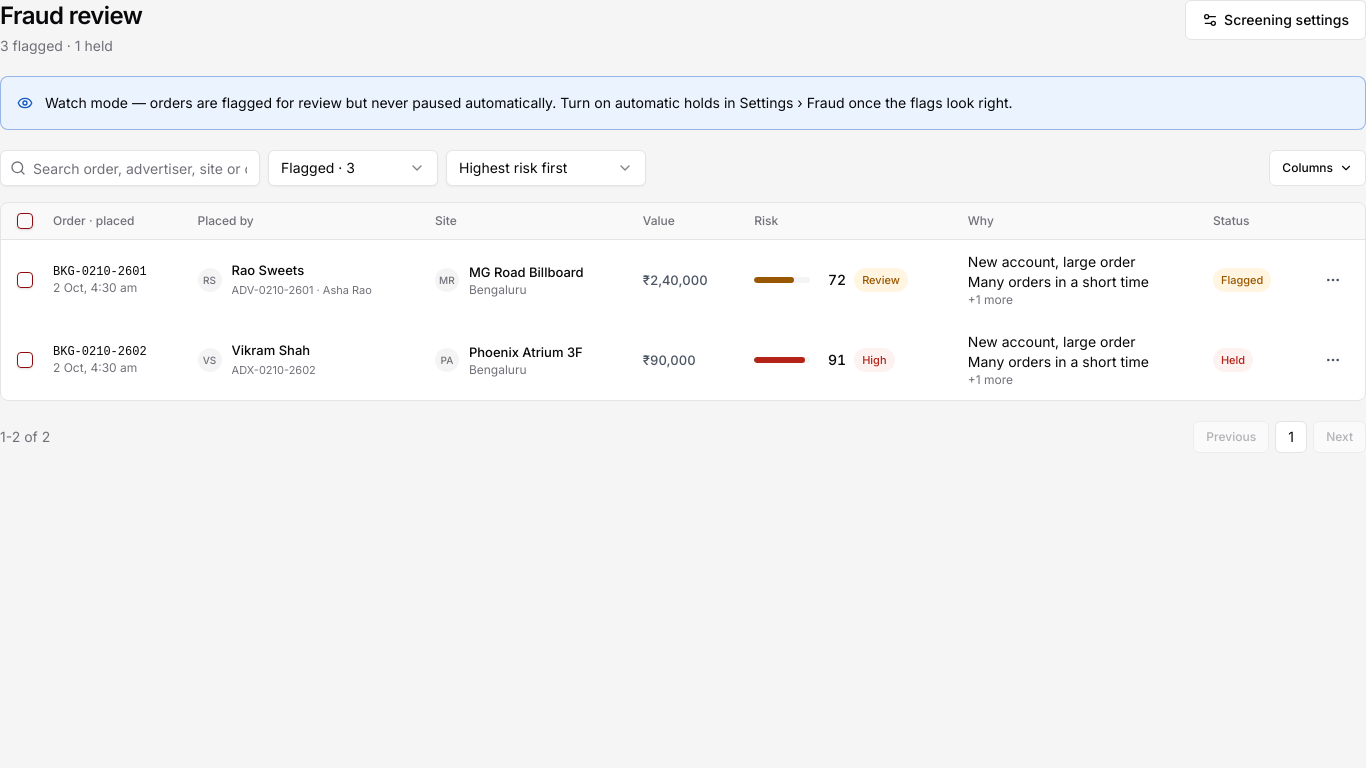
Test: the bulk bar › cancels several as fraud with the summed money shown first, and keeps the failures ticked
The width and height of the screenshot is (1366, 768).
Click the checkbox named "Select all rows". click: (25, 221)
box: [17,213,33,229]
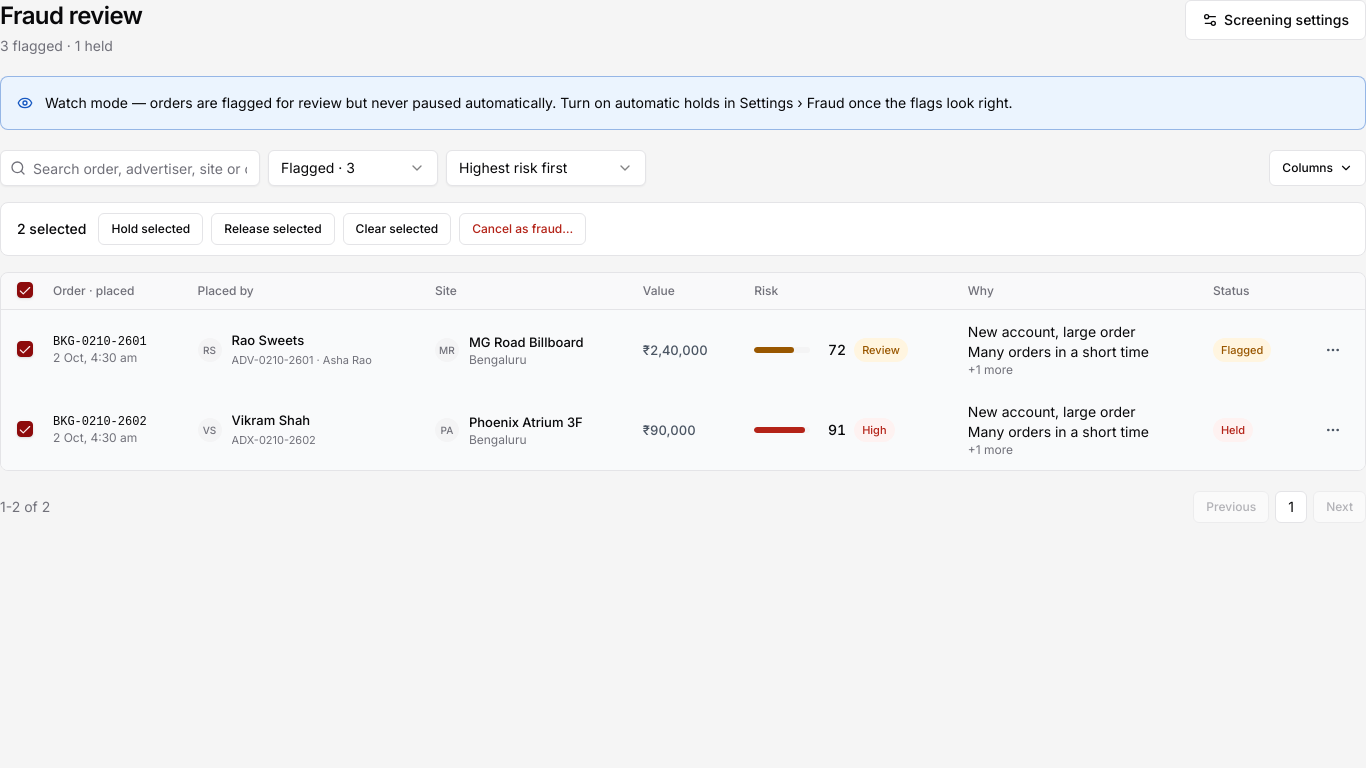
Click the button with test id "bulk-confirm-fraud". click: (523, 229)
box: [459,213,586,245]
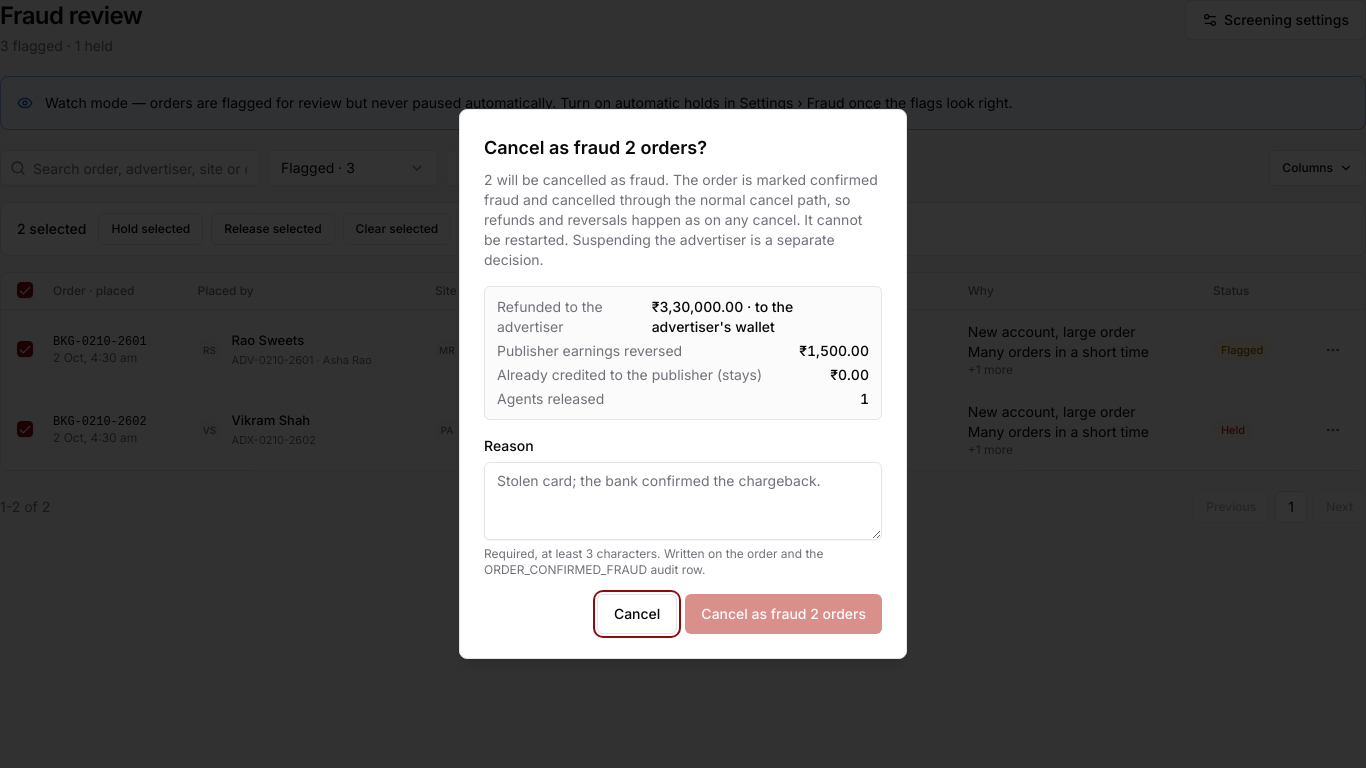
Check: the element with test id "cancel-impact" shows "₹3,30,000.00", box [652,298,793,335]
Check: the element with test id "cancel-impact" shows "₹1,500.00", box [799,342,869,359]
Check: the button "Cancel as fraud 2 orders" is disabled, box [685,594,882,634]
Type "Ring of stolen cards" into the text box labelled "Reason". click: (683, 501)
box: [484,462,882,540]
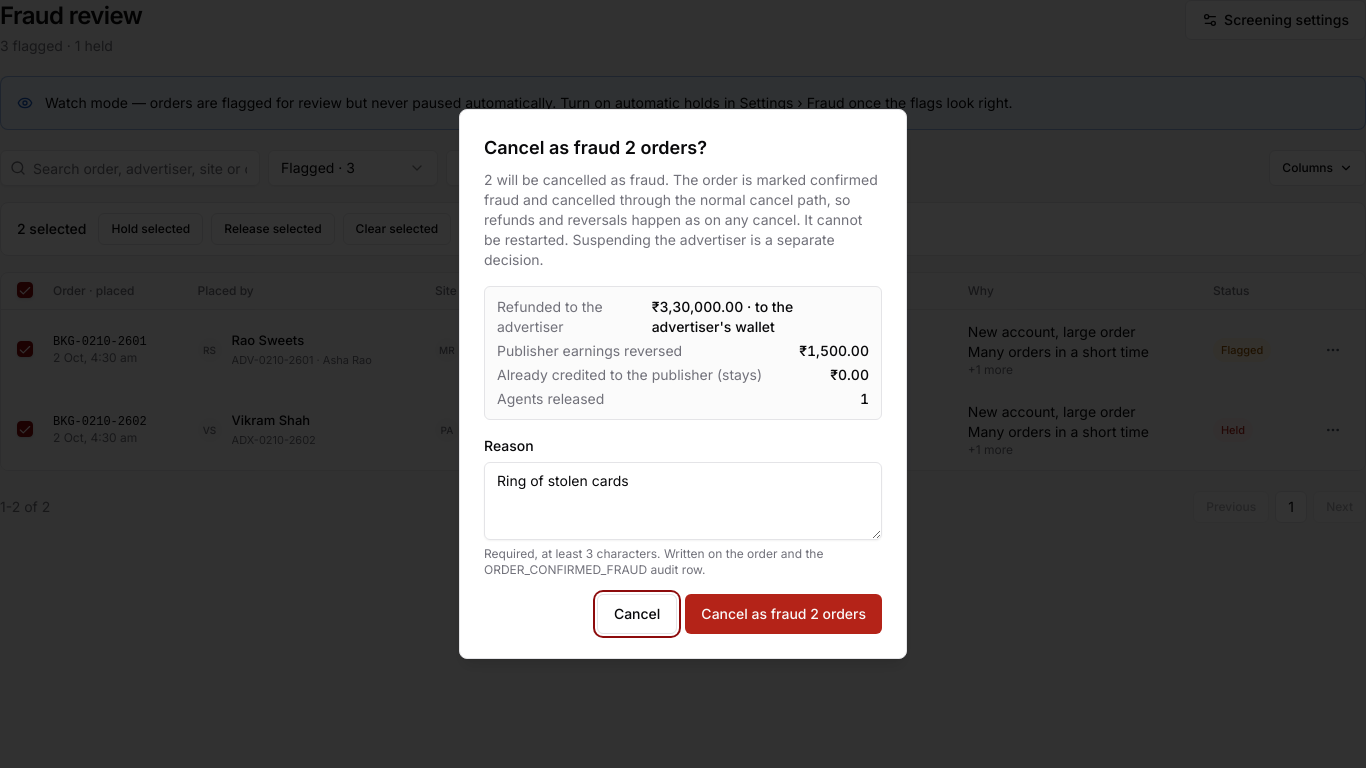
Click the button "Cancel as fraud 2 orders". click: (784, 614)
box: [685,594,882,634]
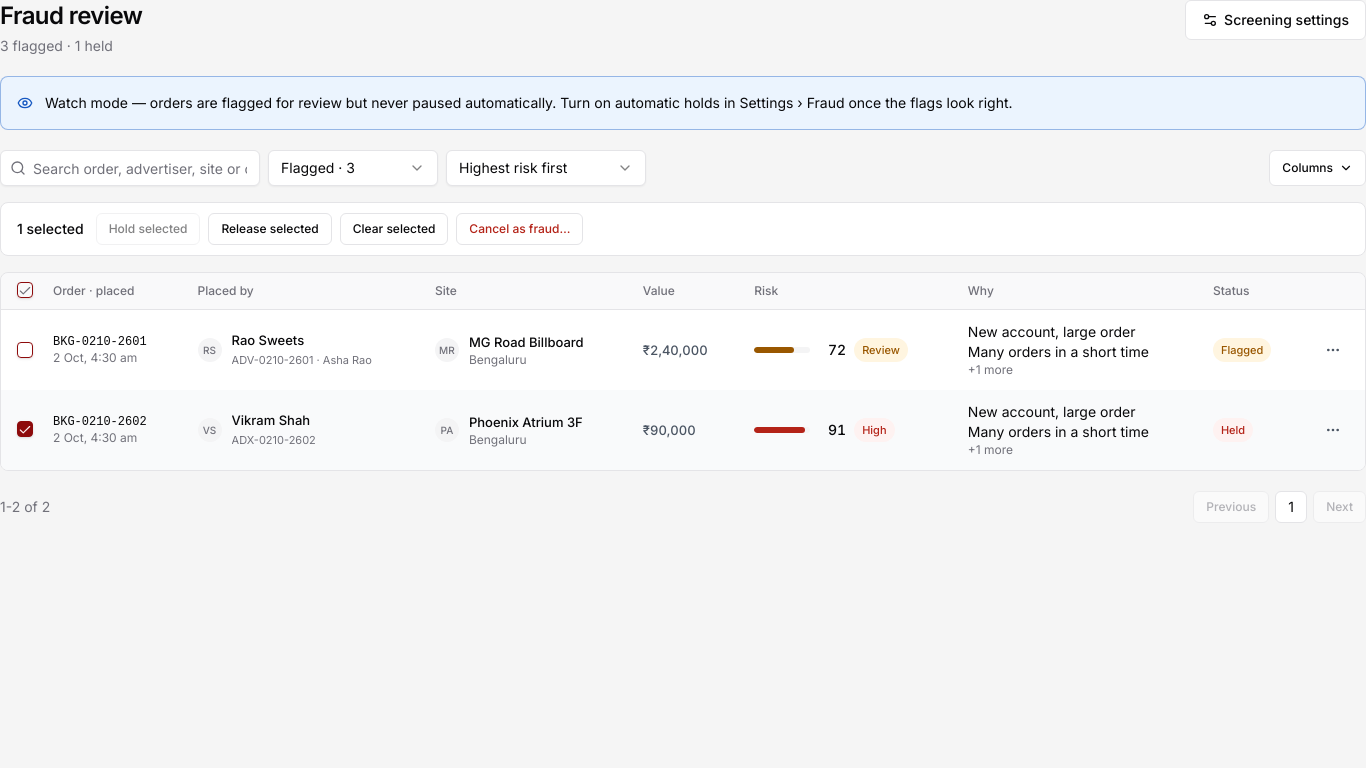
Check: the checkbox named "Select row" next to "BKG-0210-2602" is checked, box [17,420,33,436]
Check: the text "1 selected" is shown, box [17,219,84,239]
